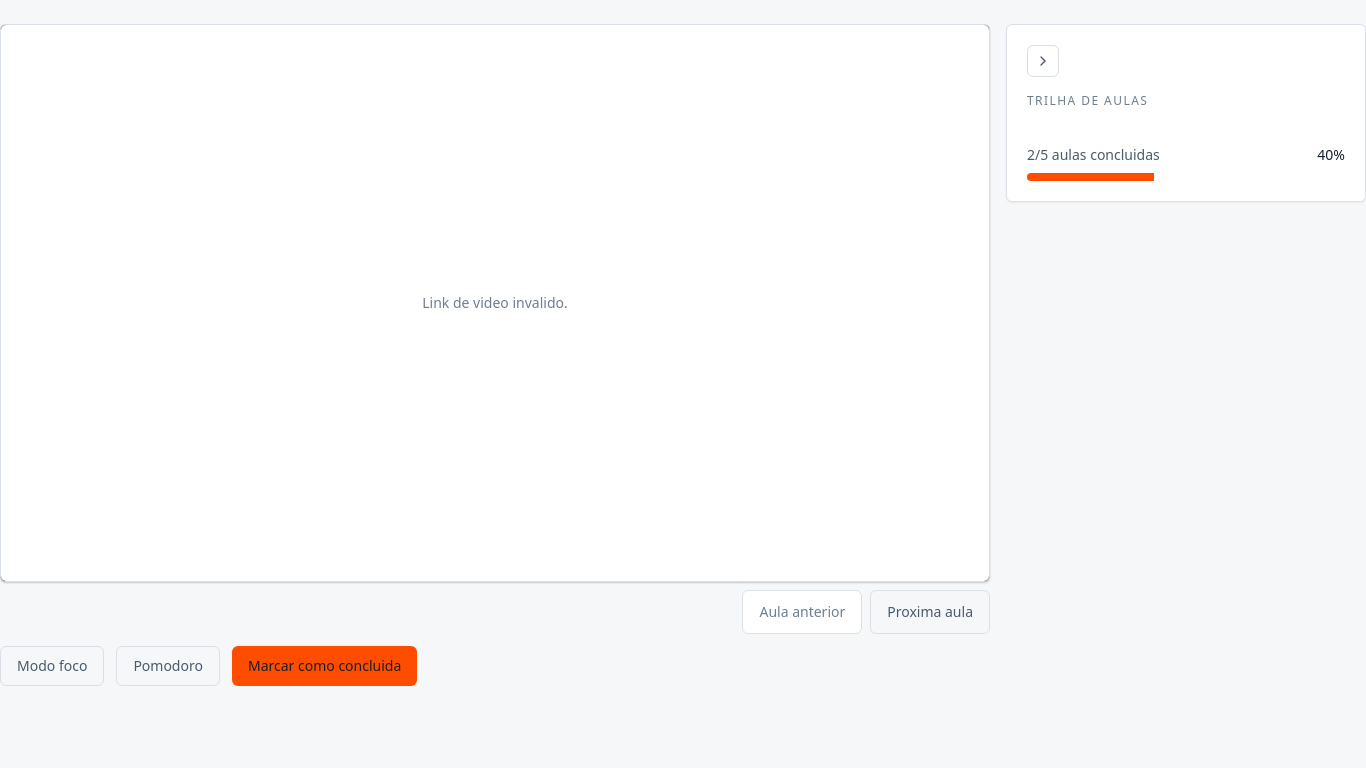
Test: LessonCompletionPanel › counts down and navigates to the next lesson after completion
Click the button "Marcar como concluida": (325, 666) [232, 646, 417, 686]
Wait 5000 ms
(page scrolled)
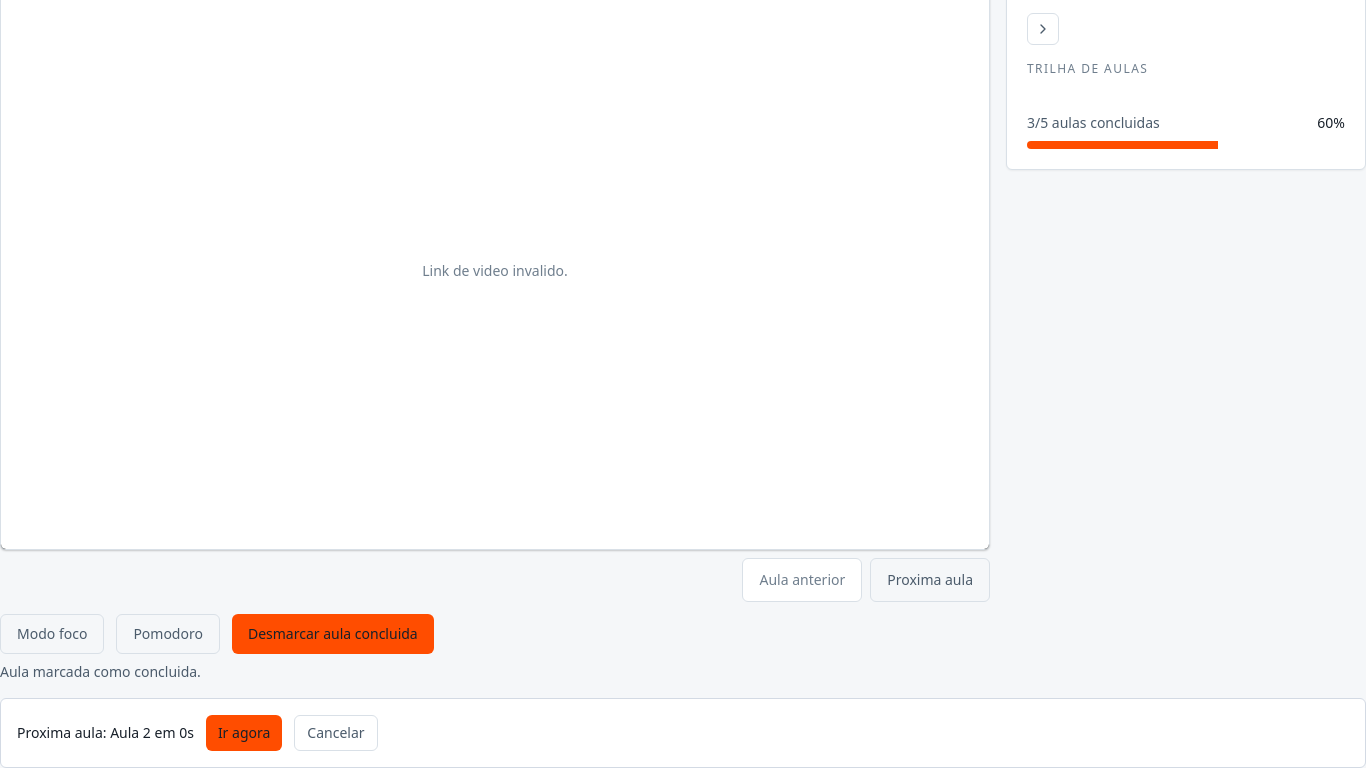
Expected: the text "Proxima aula: Aula 2 em 0s" is shown, [17, 723, 194, 743]
